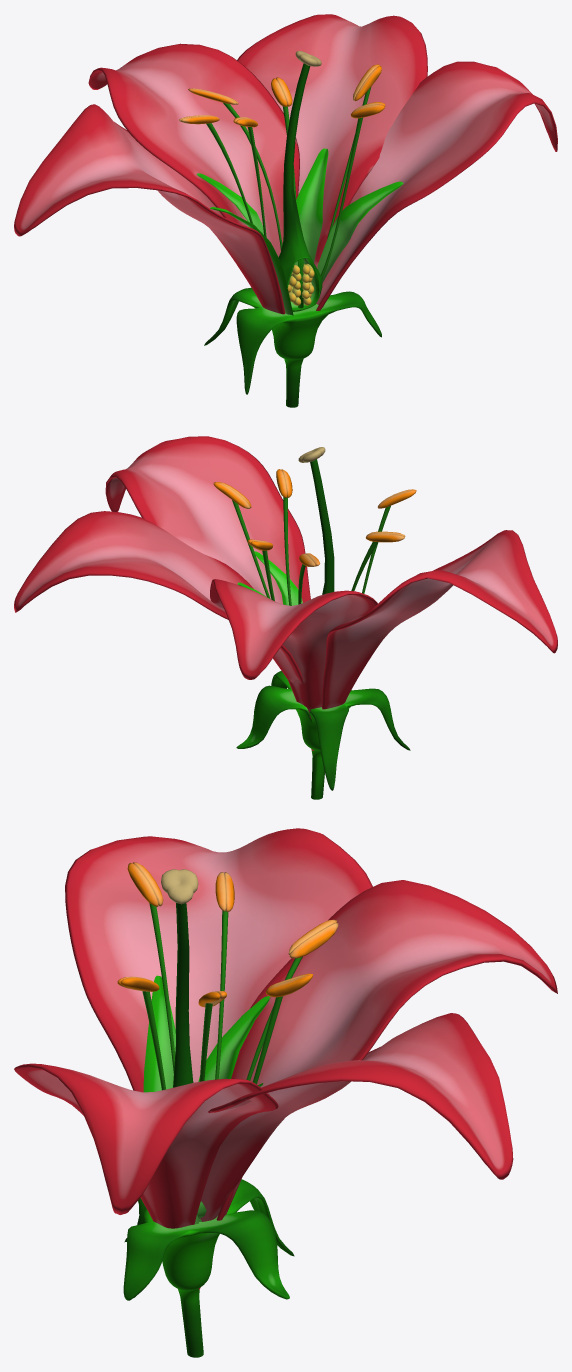
File: hibiscus3.glb
The picture shows the model from 3 angles, top to bottom: view 1: azimuth 30°, elevation 25°; view 2: azimuth 150°, elevation 25°; view 3: azimuth 270°, elevation 25°; orthographic projection. The views are drawn at different scales.
Parts seen in each view (by area): view 1: fiore; view 2: fiore; view 3: fiore.
Boxes of the visible parts, bbox=[...] form: fiore: bbox=[14, 14, 557, 407]; fiore: bbox=[14, 436, 557, 799]; fiore: bbox=[14, 828, 557, 1357].
Size of what is drawn, in the model's own units: 0.9039 by 0.6171 by 0.6255.
1 material, 1 textured.
